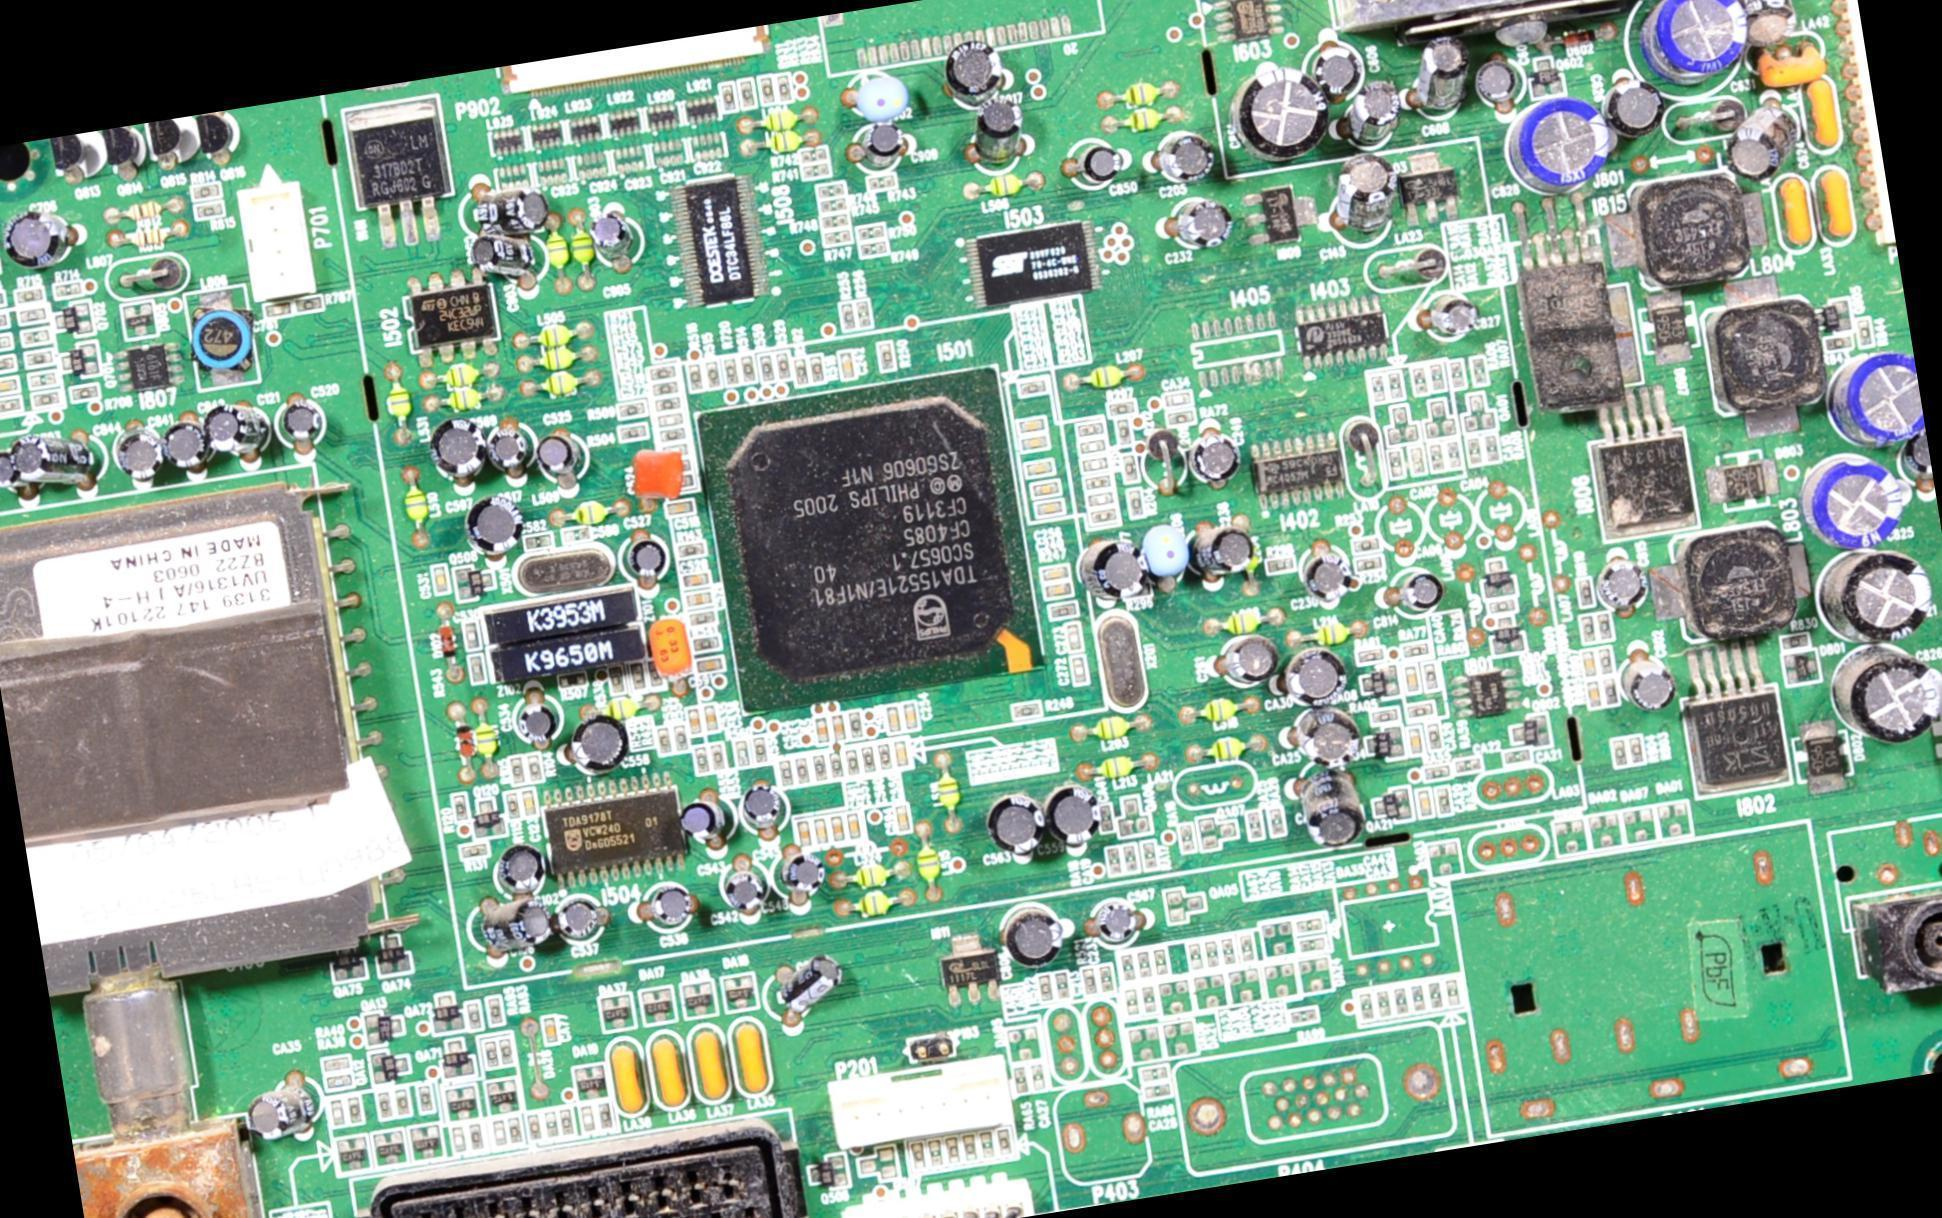Capacitor: (263, 300, 295, 318), (1018, 434, 1050, 452), (829, 815, 847, 847), (1586, 681, 1602, 711), (521, 790, 537, 819), (893, 738, 909, 768), (813, 818, 829, 848), (1018, 417, 1045, 434), (1026, 459, 1054, 476), (1036, 499, 1063, 517), (1071, 659, 1088, 686), (796, 821, 813, 848), (1033, 483, 1061, 498), (815, 719, 831, 746), (658, 413, 683, 429), (1044, 583, 1073, 597), (667, 501, 693, 516), (682, 574, 709, 589), (902, 704, 917, 731), (894, 804, 909, 831), (840, 351, 854, 379), (1066, 624, 1080, 652), (704, 705, 719, 732), (887, 706, 901, 734), (846, 815, 861, 840), (831, 715, 845, 742), (687, 592, 712, 607), (1408, 729, 1423, 754), (433, 567, 447, 592), (1041, 568, 1066, 582), (698, 659, 722, 673), (1404, 668, 1418, 693), (1581, 649, 1596, 675), (1417, 792, 1431, 816), (0, 377, 18, 396), (689, 709, 702, 734)
Connector: (0, 466, 406, 1141), (352, 1114, 809, 1217), (498, 24, 778, 94), (1830, 0, 1897, 252), (237, 178, 322, 303)
IC: (721, 387, 1024, 684), (1666, 634, 1797, 798), (1579, 377, 1704, 546), (338, 92, 464, 252), (538, 776, 693, 889), (668, 174, 771, 312), (963, 219, 1104, 311), (398, 266, 504, 368), (1248, 430, 1349, 511), (1295, 296, 1393, 367), (111, 345, 188, 397), (1209, 0, 1288, 46)
Resistor: (1440, 434, 1463, 472), (1293, 933, 1332, 955), (1404, 442, 1426, 482), (960, 1134, 981, 1171), (1292, 914, 1325, 937), (1370, 985, 1393, 1018), (994, 1126, 1014, 1162), (1114, 950, 1136, 983), (1443, 976, 1465, 1011), (415, 1081, 437, 1116), (320, 1053, 352, 1075), (1385, 450, 1408, 483), (577, 1102, 598, 1135), (1478, 431, 1499, 465), (1201, 935, 1221, 970), (876, 339, 896, 372), (941, 1134, 960, 1170), (1236, 931, 1256, 964), (906, 1141, 926, 1174), (1011, 700, 1043, 721), (324, 1073, 356, 1093), (1120, 985, 1140, 1018), (525, 1112, 544, 1144), (813, 180, 845, 199), (1382, 368, 1402, 400), (1428, 362, 1449, 392), (1140, 981, 1157, 1015), (542, 1109, 560, 1142), (477, 1036, 497, 1067), (375, 1088, 392, 1122), (924, 1135, 942, 1170), (1366, 370, 1384, 405), (1408, 981, 1426, 1013), (1028, 1061, 1047, 1093), (327, 1098, 346, 1127), (487, 1117, 506, 1147), (1353, 989, 1372, 1019), (807, 355, 826, 384), (1471, 359, 1490, 389), (978, 1133, 995, 1166), (344, 1094, 362, 1126), (465, 1123, 483, 1153), (1424, 442, 1443, 473), (1126, 490, 1145, 518), (487, 997, 506, 1026), (1447, 359, 1464, 391), (1464, 435, 1480, 467), (189, 182, 219, 200), (195, 200, 224, 219), (797, 148, 826, 166), (24, 350, 53, 368), (773, 350, 792, 379), (823, 229, 851, 248), (1186, 940, 1202, 971), (776, 72, 793, 103), (507, 1116, 524, 1146), (19, 330, 51, 347), (616, 401, 647, 418), (1412, 364, 1428, 394), (504, 791, 521, 822), (1148, 945, 1166, 973), (1053, 972, 1071, 1000), (818, 196, 846, 215), (854, 297, 873, 326), (508, 756, 526, 784), (498, 1036, 514, 1068), (450, 1126, 466, 1157), (1390, 983, 1408, 1013), (1142, 1084, 1168, 1105), (53, 281, 83, 298), (865, 175, 894, 192), (294, 295, 324, 312), (461, 842, 487, 861), (1627, 738, 1647, 764), (752, 735, 770, 762), (708, 744, 727, 770), (693, 747, 711, 773), (759, 75, 775, 105), (858, 242, 888, 257), (1220, 935, 1236, 963), (1012, 1064, 1028, 1092), (1136, 1066, 1164, 1083), (802, 163, 831, 180), (857, 224, 886, 241), (704, 360, 721, 388), (653, 381, 680, 398), (620, 424, 648, 441), (660, 426, 687, 443), (1115, 418, 1133, 446), (1355, 556, 1383, 573), (452, 795, 468, 823), (859, 747, 876, 774), (1611, 739, 1628, 767), (794, 759, 812, 785), (1134, 948, 1149, 978), (1047, 603, 1076, 619), (1780, 634, 1810, 649), (467, 1002, 482, 1031), (738, 81, 755, 108), (17, 288, 43, 305), (650, 365, 677, 381), (654, 396, 681, 412), (1168, 410, 1194, 427), (1082, 458, 1108, 474), (844, 748, 860, 775), (812, 755, 829, 781), (393, 1087, 409, 1115), (721, 82, 736, 109), (593, 1102, 609, 1130), (1426, 979, 1441, 1008), (724, 357, 739, 384), (759, 353, 774, 382), (794, 358, 809, 386), (1018, 379, 1045, 395), (1823, 335, 1851, 351), (693, 636, 721, 651), (690, 611, 716, 627), (739, 353, 754, 383), (688, 362, 702, 391), (1122, 455, 1137, 484), (19, 306, 47, 322), (821, 214, 848, 230), (33, 390, 60, 405), (1084, 474, 1111, 490), (849, 713, 865, 739), (828, 751, 843, 777), (778, 760, 793, 787), (840, 303, 858, 327), (1077, 421, 1102, 438), (673, 726, 688, 753), (527, 753, 542, 782), (1857, 320, 1872, 345), (1354, 538, 1379, 553), (657, 728, 672, 754), (1039, 976, 1052, 1003), (72, 386, 98, 400), (1108, 401, 1135, 415), (1098, 965, 1112, 994), (558, 1108, 571, 1137), (0, 398, 22, 414), (1080, 440, 1104, 454), (1090, 510, 1114, 523), (735, 742, 749, 766), (877, 745, 891, 769), (1083, 969, 1096, 994), (30, 373, 53, 386), (681, 544, 702, 557), (0, 357, 14, 374), (1090, 494, 1113, 505), (0, 335, 10, 349), (0, 314, 8, 328)
Transistor: (1237, 181, 1320, 252), (1395, 151, 1465, 231), (425, 988, 468, 1038), (434, 1036, 479, 1082), (361, 1005, 405, 1048), (368, 1047, 414, 1089), (805, 1153, 852, 1195), (51, 297, 97, 340), (325, 938, 368, 982), (373, 931, 414, 976), (720, 974, 760, 1015), (440, 1082, 481, 1123), (1526, 58, 1566, 98), (60, 341, 100, 381), (483, 1075, 520, 1116), (682, 980, 719, 1020), (639, 986, 676, 1025), (598, 994, 636, 1032), (1813, 299, 1850, 332), (574, 1063, 606, 1099)
